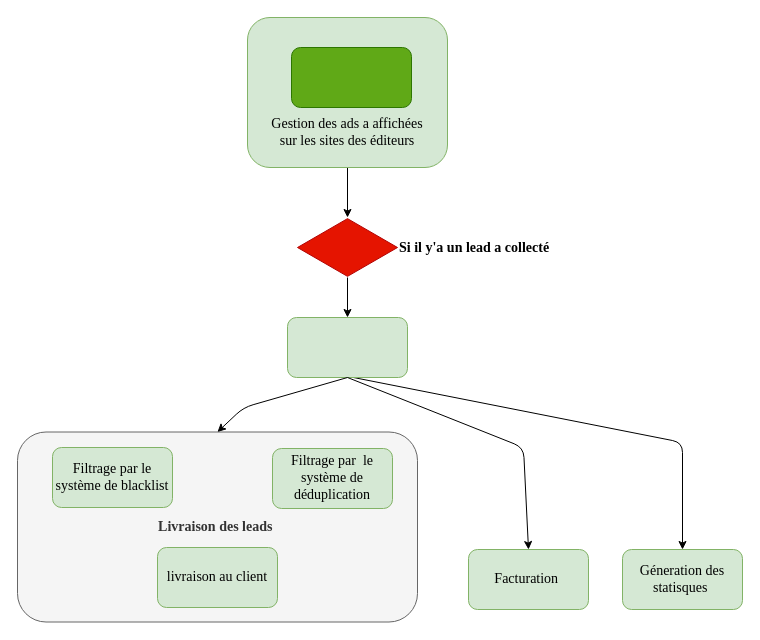
Image size: 760x640. Some labels were removed from this diagram. Each missing label, with the centre of its shape:
"Mise a jour des statistique basique" belongs at (347,347).
"Système de blacklist" belongs at (351,77).
